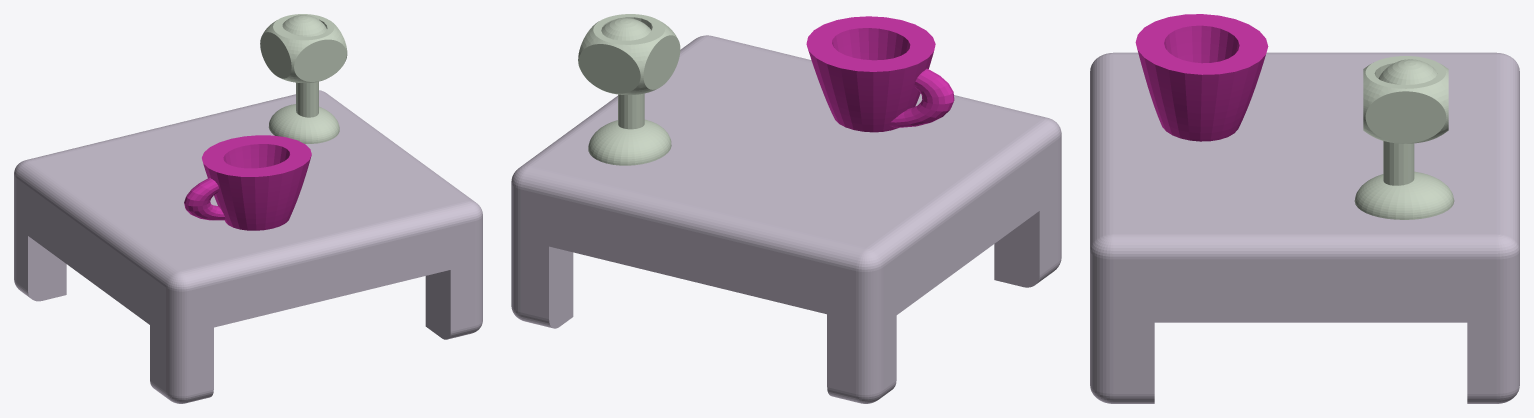
Rendered from Cool_Table_Design.glb.
3 renders of one model, left to right at view 1: azimuth 30°, elevation 25°; view 2: azimuth 150°, elevation 25°; view 3: azimuth 270°, elevation 25°, orthographic. The views are drawn at different scales.
Visible parts, largest first — view 1: Mesh_Mesh_head_geo.001_lambert2SG.001; view 2: Mesh_Mesh_head_geo.001_lambert2SG.001; view 3: Mesh_Mesh_head_geo.001_lambert2SG.001.
Boxes of the visible parts, <box> form: Mesh_Mesh_head_geo.001_lambert2SG.001: <box>14,14,482,403</box>; Mesh_Mesh_head_geo.001_lambert2SG.001: <box>511,14,1061,403</box>; Mesh_Mesh_head_geo.001_lambert2SG.001: <box>1090,14,1519,403</box>.
Size of the model in its own units: 163 by 120 by 151.
